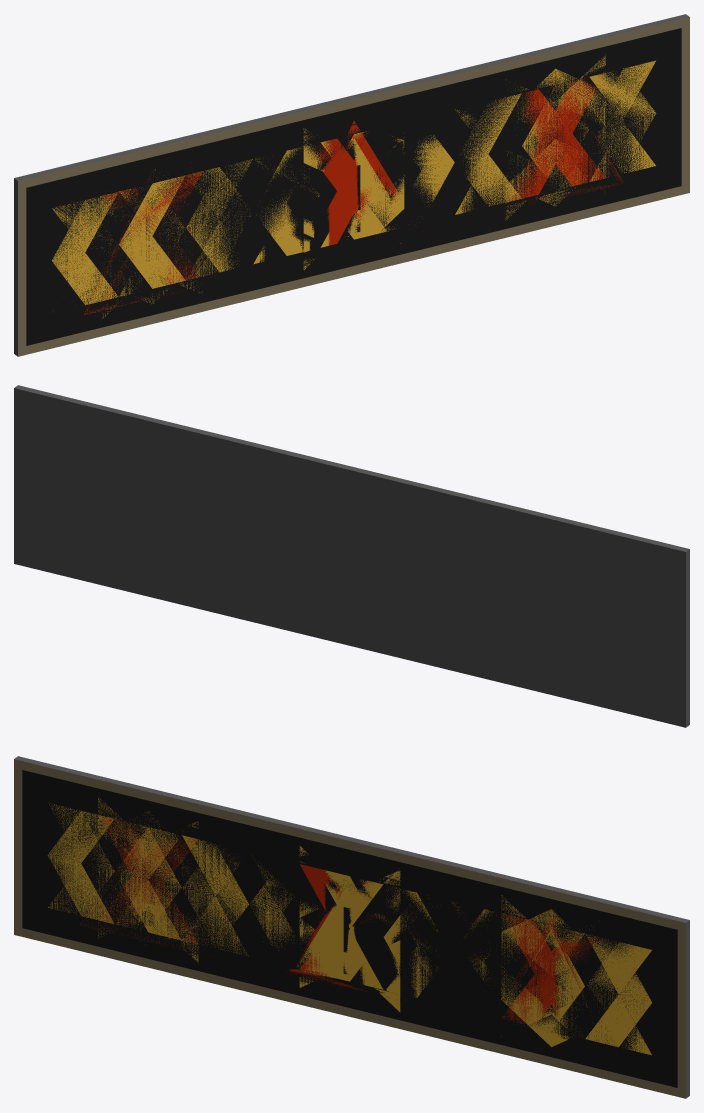
File: signs.glb
3 renders of one model, top to bottom at view 1: azimuth 30°, elevation 25°; view 2: azimuth 150°, elevation 25°; view 3: azimuth 330°, elevation 25°, orthographic.
Parts seen in each view (by area): view 1: SignArrowLeft, SignWrongWay, SignArrowRight, SignArrowUp, SignWarning, SignArrowDown; view 2: SignArrowLeft, SignArrowRight, SignArrowUp; view 3: SignArrowLeft, SignArrowRight, SignWrongWay, SignArrowDown, SignArrowUp, SignWarning.
Part boxes in pixels (bbox=[...]): SignArrowLeft: bbox=[14, 14, 689, 356]; SignWrongWay: bbox=[26, 31, 681, 344]; SignArrowRight: bbox=[14, 15, 689, 356]; SignArrowUp: bbox=[14, 16, 689, 353]; SignWarning: bbox=[26, 67, 679, 341]; SignArrowDown: bbox=[26, 28, 681, 344]; SignArrowLeft: bbox=[14, 385, 689, 727]; SignArrowRight: bbox=[14, 386, 689, 727]; SignArrowUp: bbox=[14, 386, 689, 724]; SignArrowLeft: bbox=[14, 756, 689, 1098]; SignArrowRight: bbox=[14, 756, 689, 1097]; SignWrongWay: bbox=[22, 770, 677, 1087]; SignArrowDown: bbox=[22, 770, 676, 1085]; SignArrowUp: bbox=[14, 757, 687, 1096]; SignWarning: bbox=[22, 777, 677, 1087].
Bounding box in the file's own units: 20 × 5 × 0.21.
